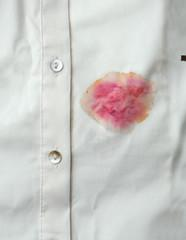gun: (78, 61, 160, 134)
